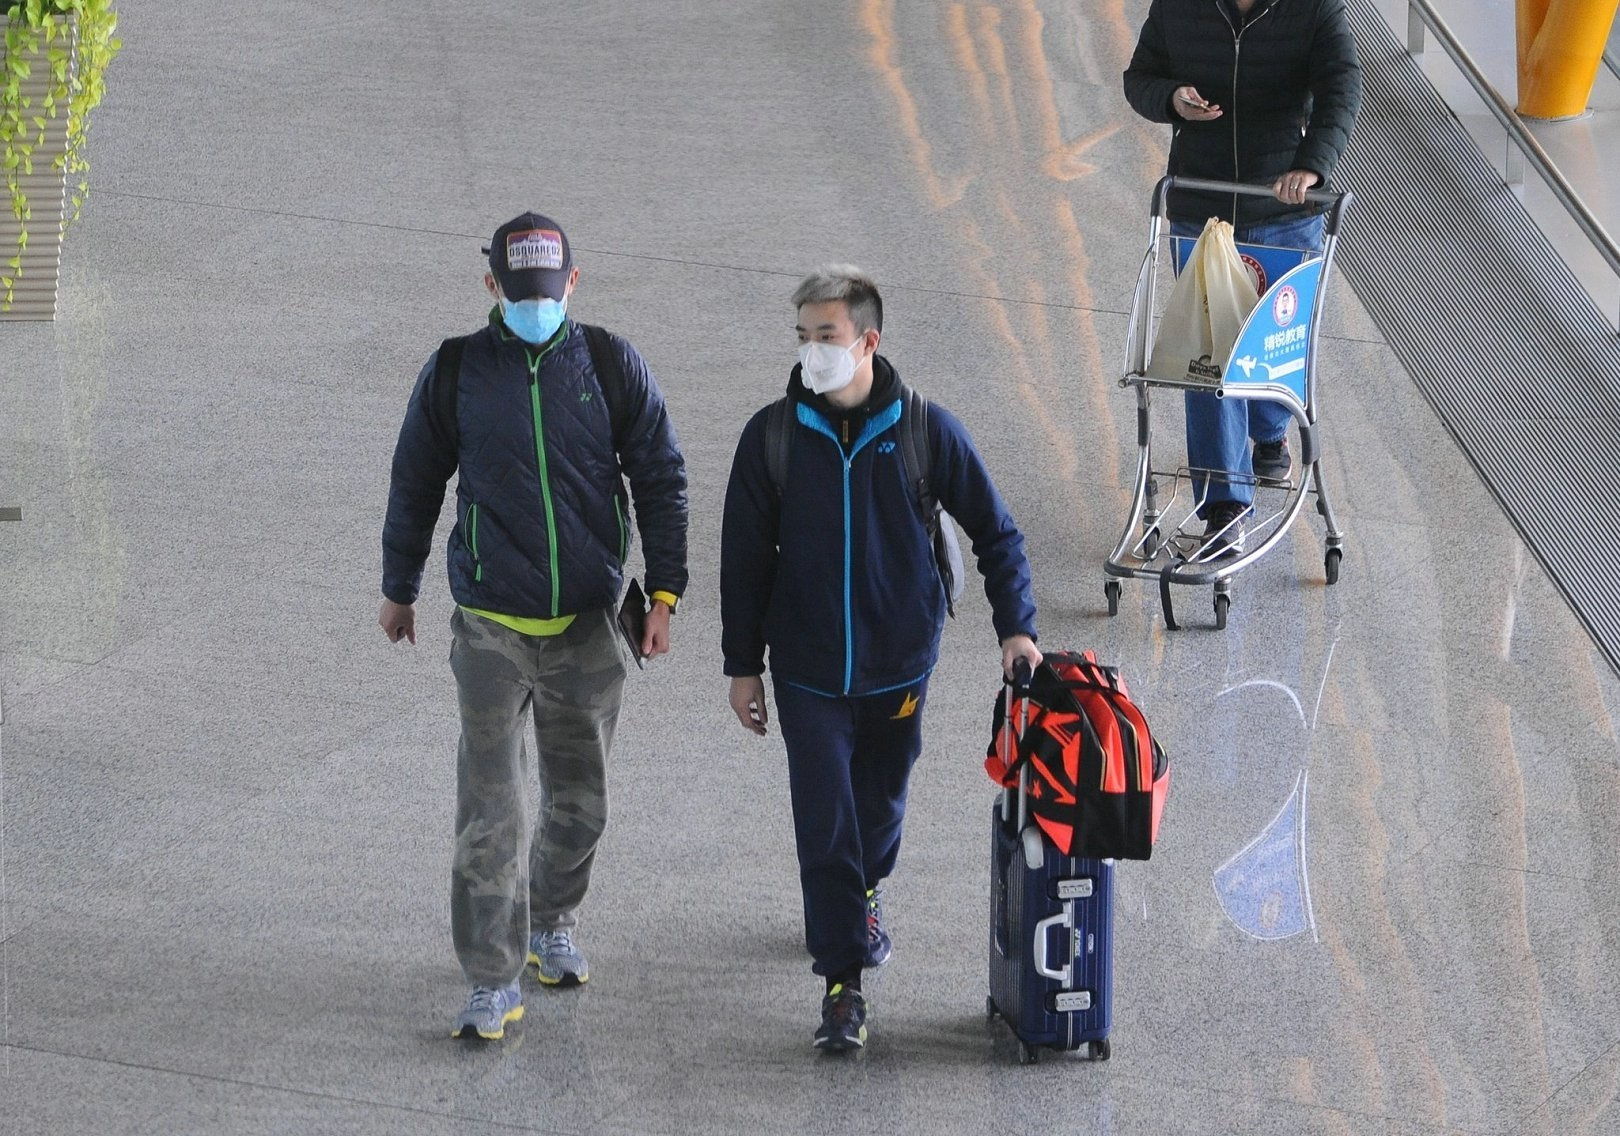face_mask: (792, 302, 870, 384), (503, 267, 567, 344)
